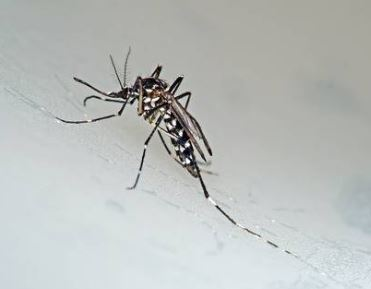dengue_mosquito: (73, 45, 213, 209)
